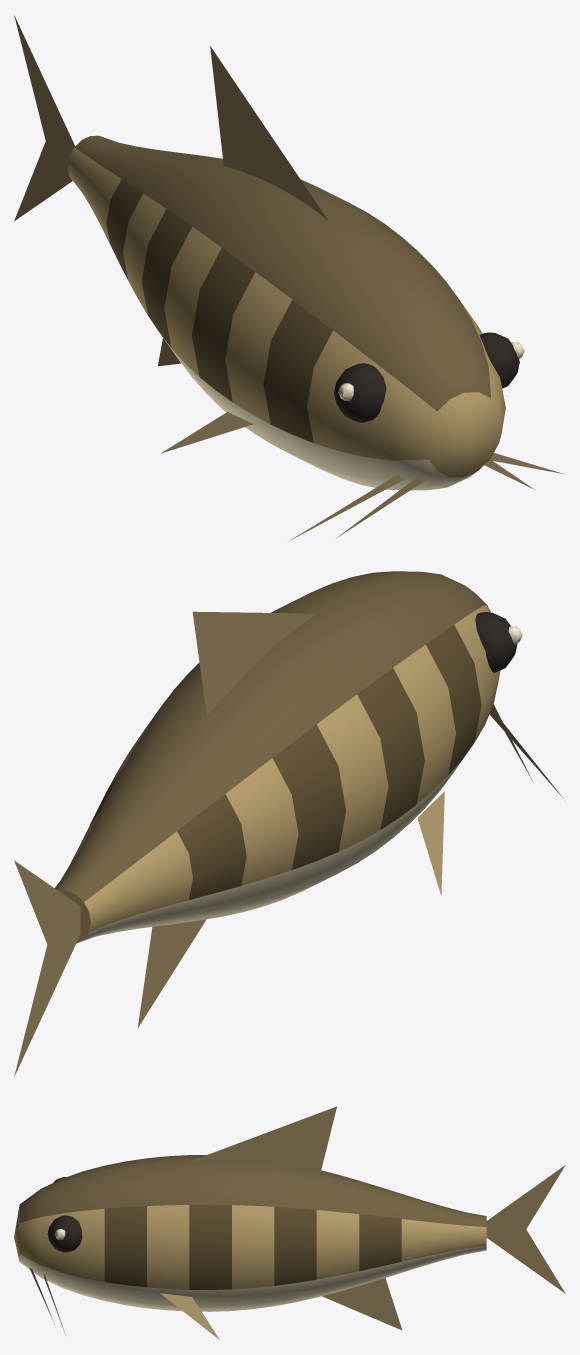
File: stone_loach.fbx
3 views of the same model, one above another, from view 1: azimuth 30°, elevation 25°; view 2: azimuth 150°, elevation 25°; view 3: azimuth 270°, elevation 25° (orthographic). The views are drawn at different scales.
Parts seen in each view (by area): view 1: Fish_stone_loach_EXP; view 2: Fish_stone_loach_EXP; view 3: Fish_stone_loach_EXP.
Boxes of the visible parts, left/top/right/bottom form: Fish_stone_loach_EXP: left=14, top=15, right=564, bottom=540; Fish_stone_loach_EXP: left=14, top=571, right=563, bottom=1076; Fish_stone_loach_EXP: left=14, top=1106, right=565, bottom=1339.
Bounding box in the file's own units: 0.0888 × 0.106 × 0.2364.
